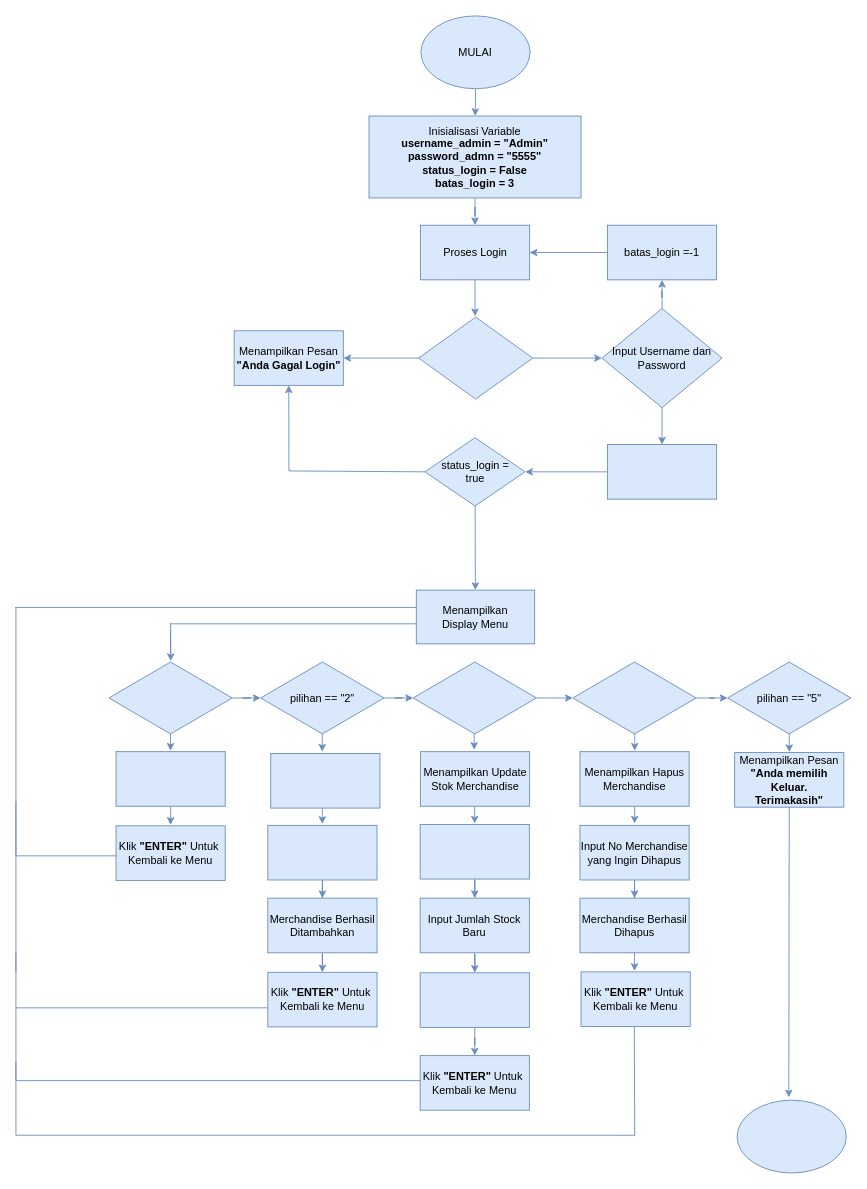
The diagram is 867 pixels wide and 1189 high, and some of its shapes have lost their labels. The centre of each missing label's shape, as x and y in pixels:
batas_login > 0: the point at 475,357
Input Detail Merchandise Baru: the point at 322,852
Input No Merchandise yang Ingin Diupdate: the point at 474,851
Menampilkan List Katalog: the point at 170,778
Menampilkan Menambah Merchandise Baru: the point at 325,780
pilihan == "1": the point at 170,697
pilihan == "3": the point at 474,697
pilihan == "4": the point at 634,697
SELESAI: the point at 791,1136
Set status_login = true: the point at 662,471
Stock Berhasil Diupdate: the point at 474,999
